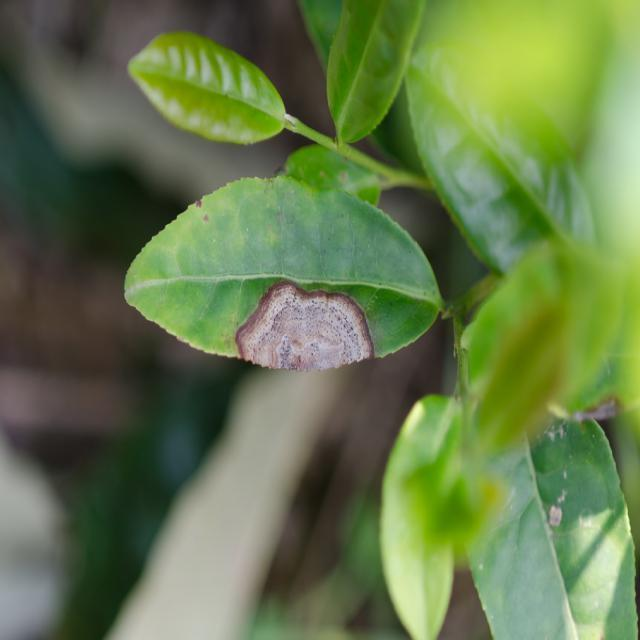Tea cloud leaf blight: (235, 282, 377, 371)
